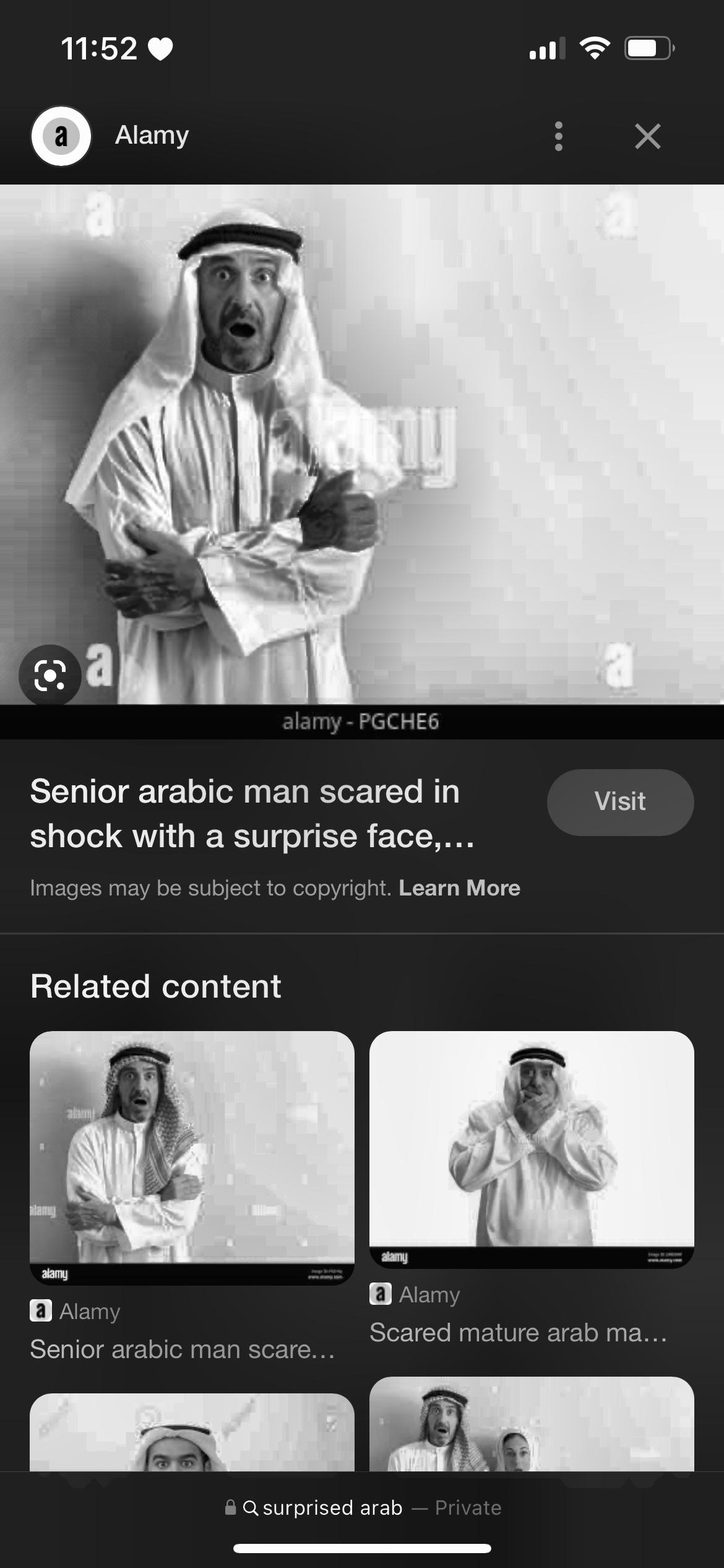surprised: (190, 252, 292, 371)
